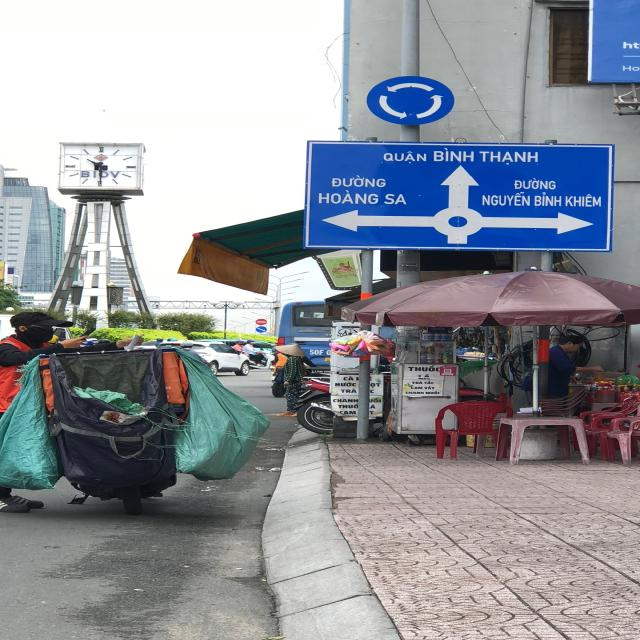Bien bao noi giao nhau chay theo vong xuyen: (353, 68, 465, 130)
